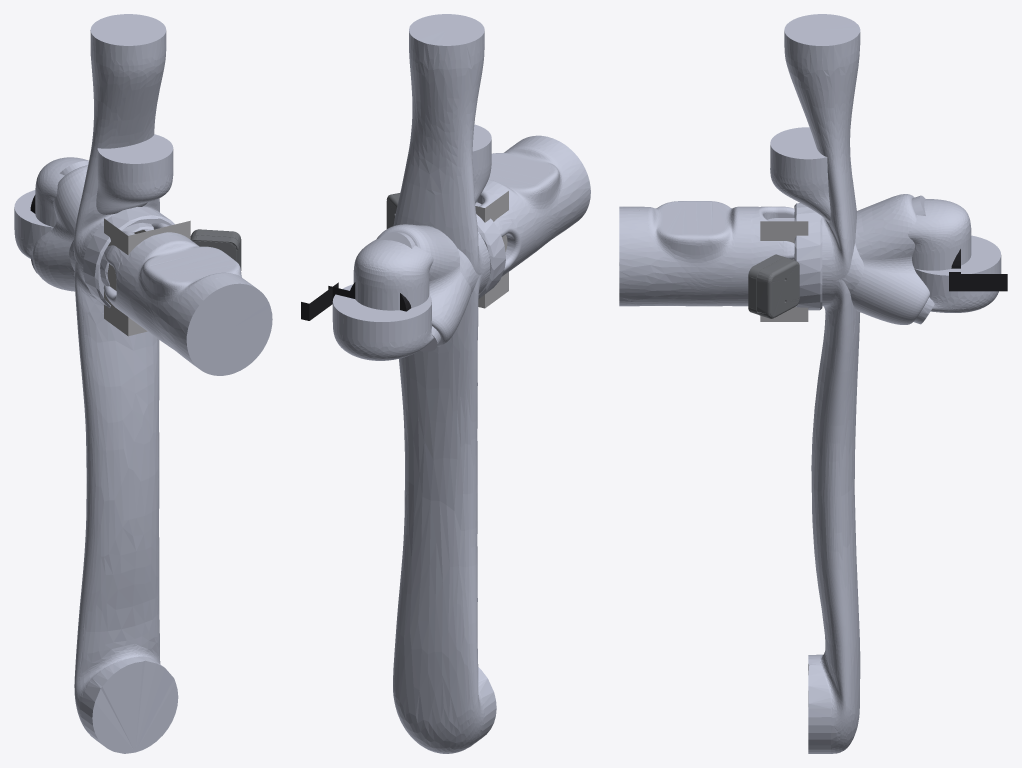
The model's file is arm.glb.
3 views of the same model, side by side, from view 1: azimuth 30°, elevation 25°; view 2: azimuth 150°, elevation 25°; view 3: azimuth 270°, elevation 25° (orthographic).
Visible parts, largest first — view 1: b4, b2, b5, b7, b8, b3, b11, b6; view 2: b4, b5, b2, b3, b8, b6, b11, b7; view 3: b4, b2, b5, b8, b3, b11, b7, b6.
Boxes of the visible parts, x1,y1,x2,y2 form: b4: [74, 220, 178, 753]; b2: [103, 223, 272, 375]; b5: [73, 14, 167, 296]; b7: [96, 134, 173, 214]; b8: [30, 161, 88, 291]; b3: [14, 190, 174, 307]; b11: [104, 218, 241, 336]; b6: [35, 157, 153, 286]; b4: [393, 234, 496, 753]; b5: [393, 14, 490, 290]; b2: [475, 135, 590, 276]; b3: [332, 205, 505, 360]; b8: [301, 224, 471, 351]; b6: [353, 238, 433, 310]; b11: [386, 191, 508, 308]; b7: [419, 124, 491, 233]; b4: [808, 222, 860, 753]; b2: [619, 201, 794, 306]; b5: [784, 14, 860, 306]; b8: [850, 194, 1007, 324]; b3: [794, 203, 1001, 312]; b11: [748, 221, 808, 321]; b7: [770, 127, 857, 225]; b6: [908, 199, 971, 270].
Bounding box in the file's own units: 0.1288 × 0.6585 × 0.3219.
